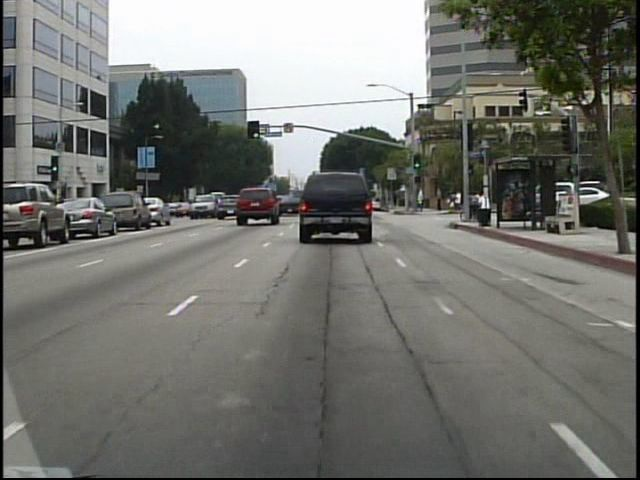person: (415, 184, 429, 215), (434, 181, 446, 214), (394, 188, 400, 209)
